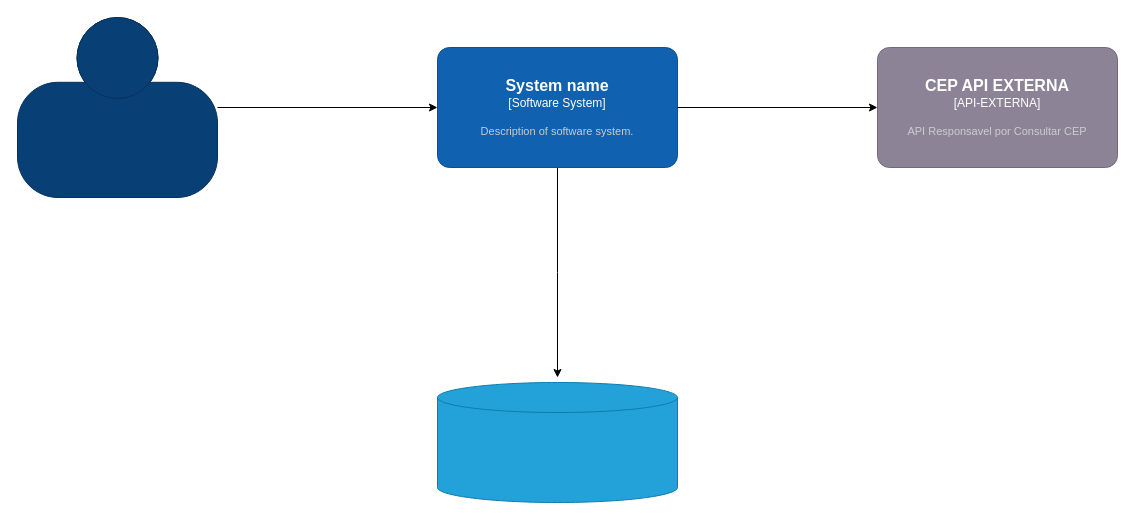
This 1135x520 diagram has some shape labels left out. The centre of each missing label's shape, as x and y in pixels:
"cepDB [Container: MongoDB] Banco de dados de ceps com data e hora de consulta." belongs at (557,442).
"Person name [Person] Description of person." belongs at (117,107).
